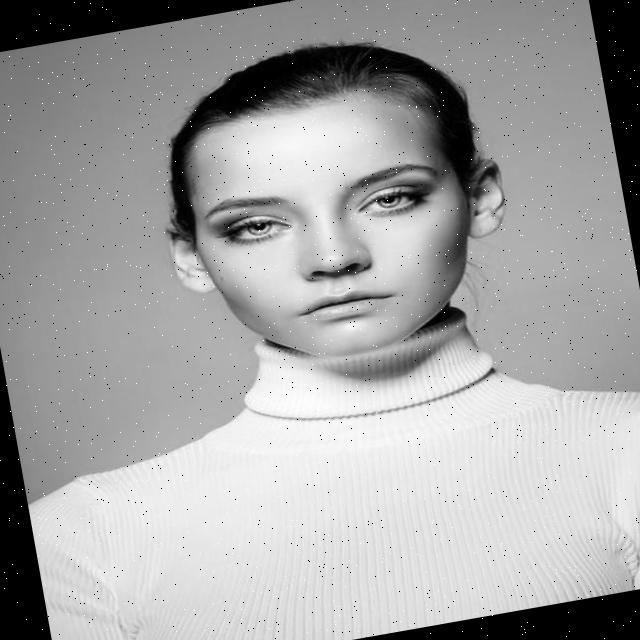Neutral: (178, 85, 490, 376)
